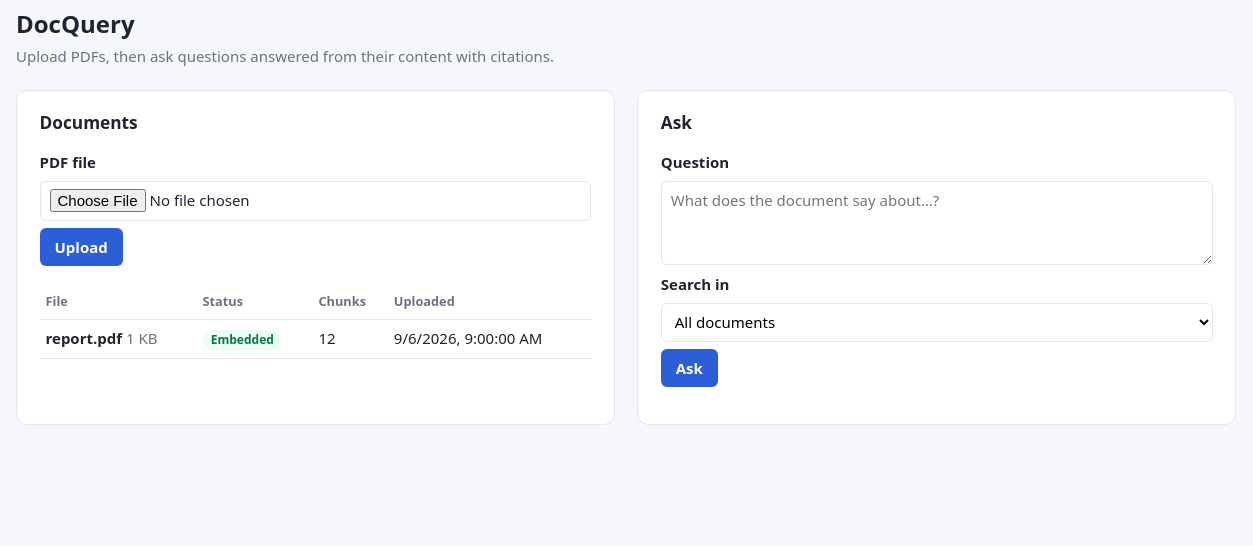
App › shows the answer with citations after asking
Expected: the table is shown, x1=40 y1=285 x2=591 y2=359
In the text box labelled "Question": (937, 223) x1=661 y1=181 x2=1213 y2=265, type "How long?"
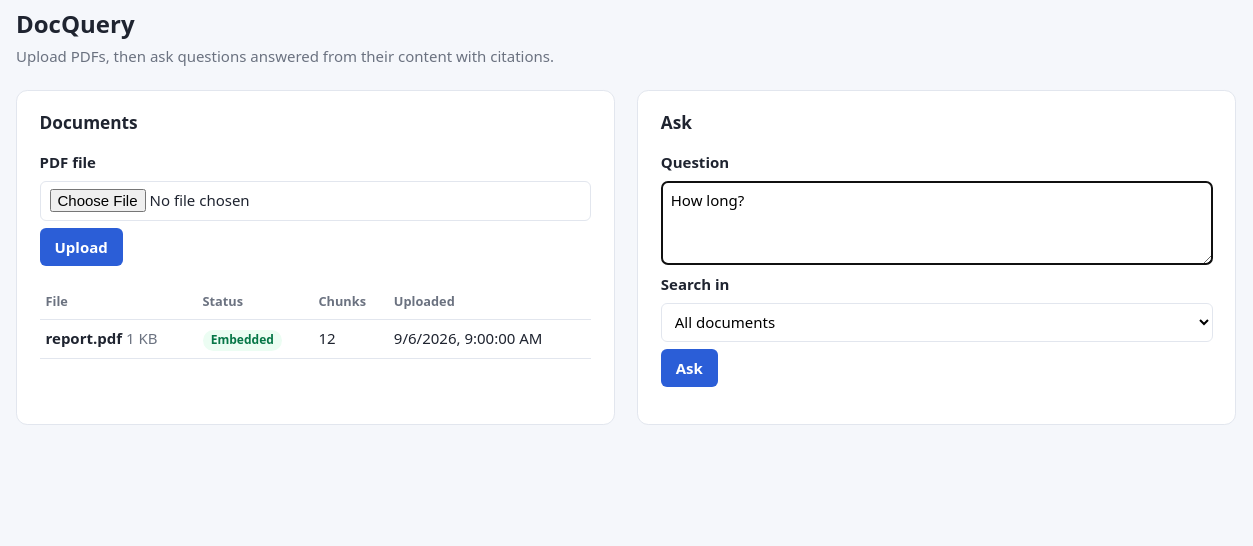
Click the button "Ask": (689, 368) x1=661 y1=349 x2=718 y2=387
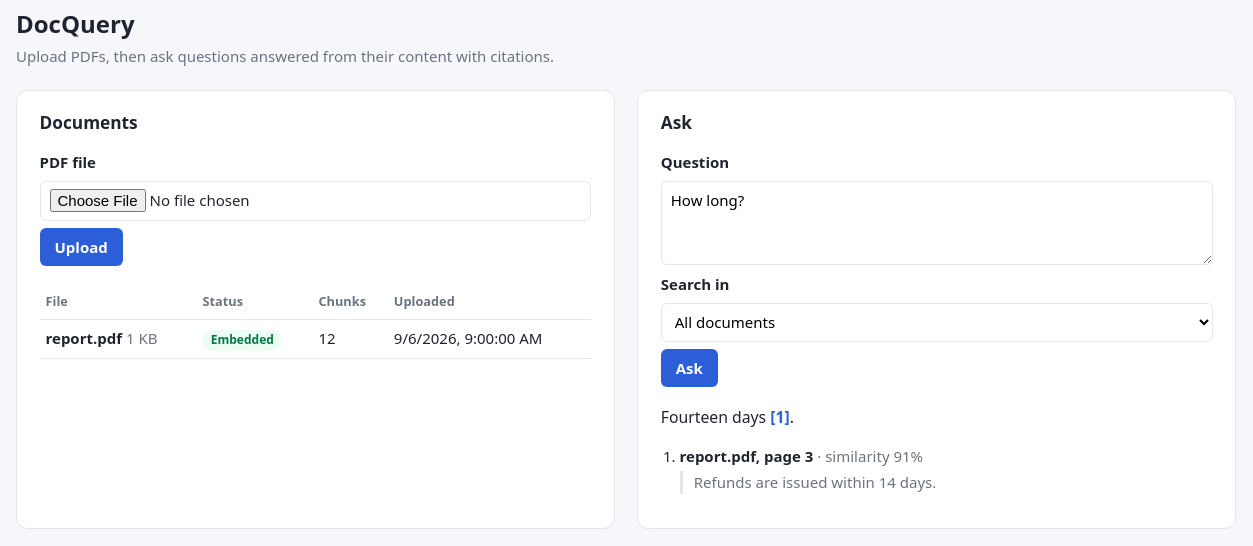
Expected: the element named "answer" shows "Fourteen days", x1=661 y1=406 x2=770 y2=428
Expected: the element named "answer" shows "report.pdf, page 3", x1=661 y1=406 x2=1213 y2=494
